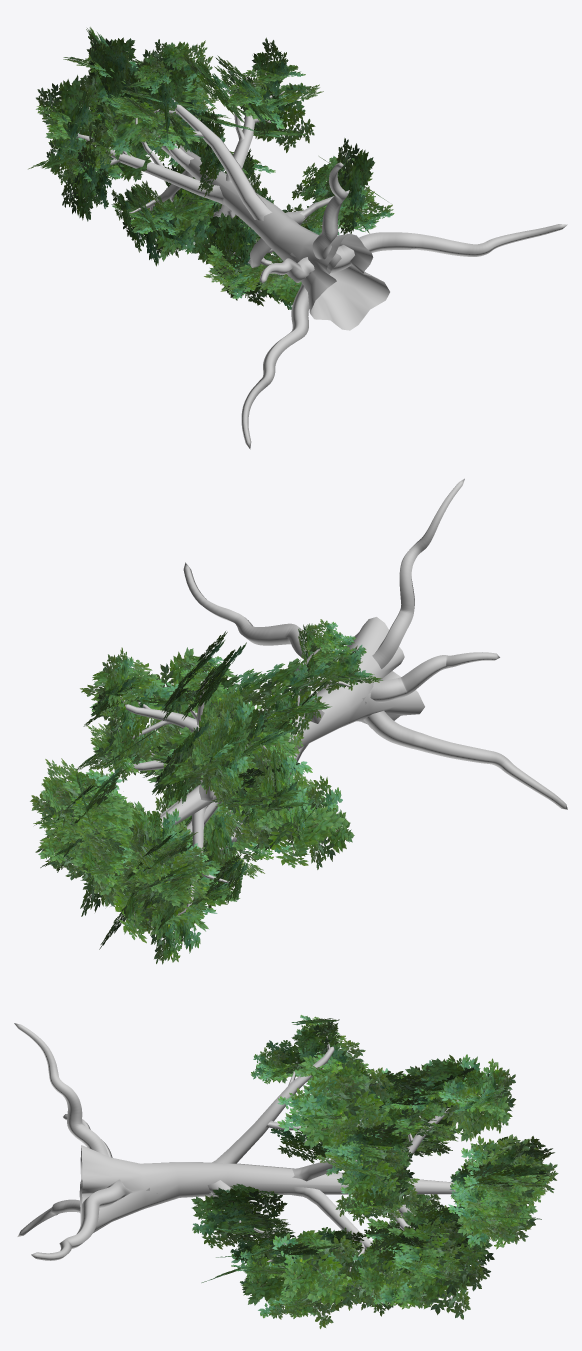
Rendered from Tree 3.FBX.
The picture shows the model from 3 angles, top to bottom: view 1: azimuth 30°, elevation 25°; view 2: azimuth 150°, elevation 25°; view 3: azimuth 270°, elevation 25°; orthographic projection. The views are drawn at different scales.
Visible parts, largest first — view 1: tree_3; view 2: tree_3; view 3: tree_3.
Boxes of the visible parts, left/top/right/bottom form: tree_3: left=28, top=27, right=567, bottom=449; tree_3: left=30, top=478, right=567, bottom=964; tree_3: left=14, top=1015, right=558, bottom=1328.
Bounding box in the file's own units: 744 × 607 × 1098.
